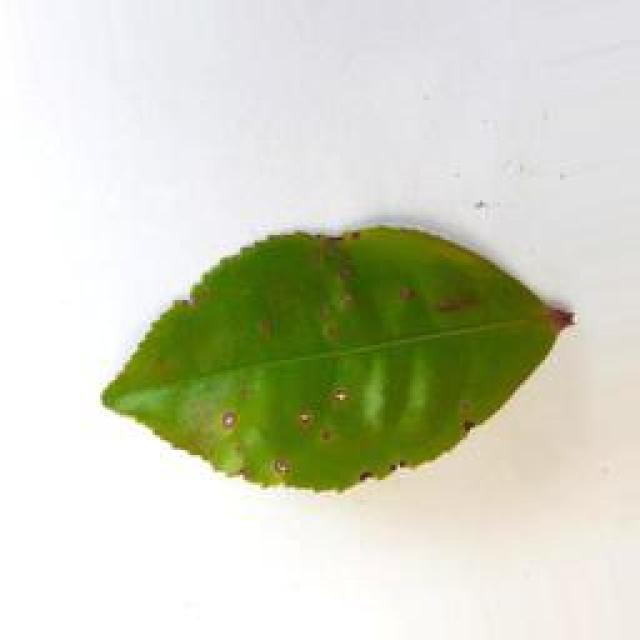Helopeltis: (99, 204, 583, 514)
